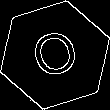O_S: (26, 24, 84, 86)
